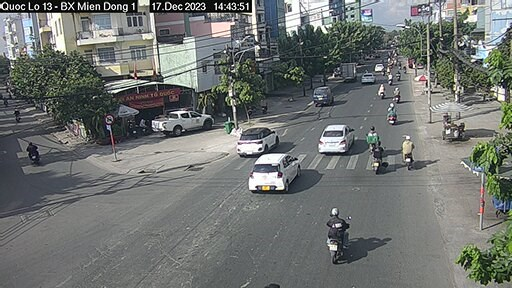car: (254, 148, 298, 205), (151, 114, 218, 136), (233, 125, 284, 152), (321, 119, 357, 157)
motorbike: (322, 207, 349, 256), (399, 136, 419, 169), (370, 143, 385, 176), (368, 127, 377, 150)
truck: (338, 60, 359, 84), (315, 87, 335, 102)
